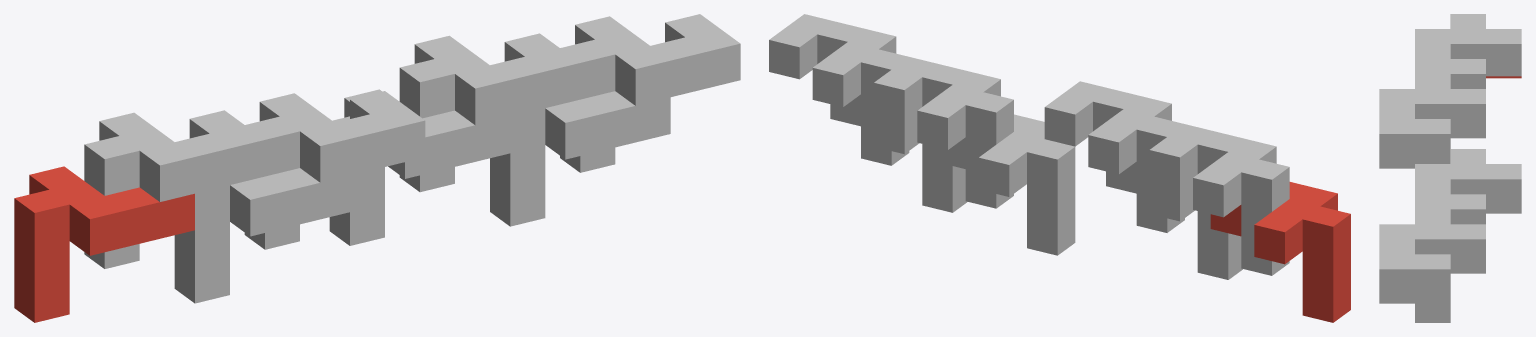
Rendered from tiling.obj.
3 renders of one model, left to right at view 1: azimuth 30°, elevation 25°; view 2: azimuth 150°, elevation 25°; view 3: azimuth 270°, elevation 25°, orthographic. The views are drawn at different scales.
Parts seen in each view (by area): view 1: copy_1_domain_1, copy_1_domain_3, copy_1_domain_7, copy_1_domain_8, copy_1_domain_4, copy_1_domain_6, copy_1_domain_2, copy_1_domain_5; view 2: copy_1_domain_3, copy_1_domain_7, copy_1_domain_1, copy_1_domain_4, copy_1_domain_8, copy_1_domain_5, copy_1_domain_2, copy_1_domain_6; view 3: copy_1_domain_8, copy_1_domain_4, copy_1_domain_7, copy_1_domain_3, copy_1_domain_6, copy_1_domain_2.
Part boxes in pixels (x1,y1,x2,y2): copy_1_domain_1: (14,166,194,322); copy_1_domain_3: (84,110,264,268); copy_1_domain_7: (399,33,580,192); copy_1_domain_8: (560,14,740,172); copy_1_domain_4: (244,91,425,249); copy_1_domain_6: (490,91,670,226); copy_1_domain_2: (174,168,355,303); copy_1_domain_5: (329,89,510,245); copy_1_domain_3: (1149,124,1289,275); copy_1_domain_7: (874,57,1013,208); copy_1_domain_1: (1210,182,1350,322); copy_1_domain_4: (1044,81,1184,232); copy_1_domain_8: (769,14,909,165); copy_1_domain_5: (935,114,1075,255); copy_1_domain_2: (1106,162,1242,279); copy_1_domain_6: (830,94,967,212); copy_1_domain_8: (1379,209,1485,320); copy_1_domain_4: (1379,74,1485,166); copy_1_domain_7: (1415,149,1521,224); copy_1_domain_3: (1415,14,1521,88); copy_1_domain_6: (1379,271,1485,322); copy_1_domain_2: (1379,136,1485,168).
Bounding box in the file's own units: 19 × 4 × 4.
